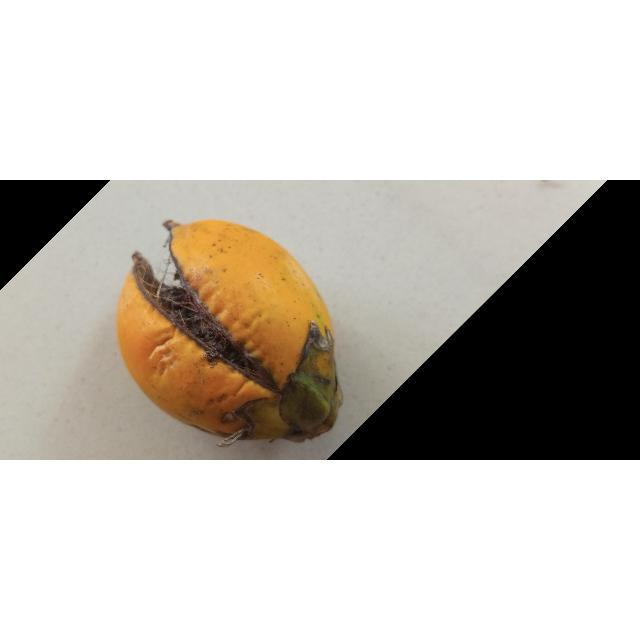damaged: (118, 220, 343, 446)
